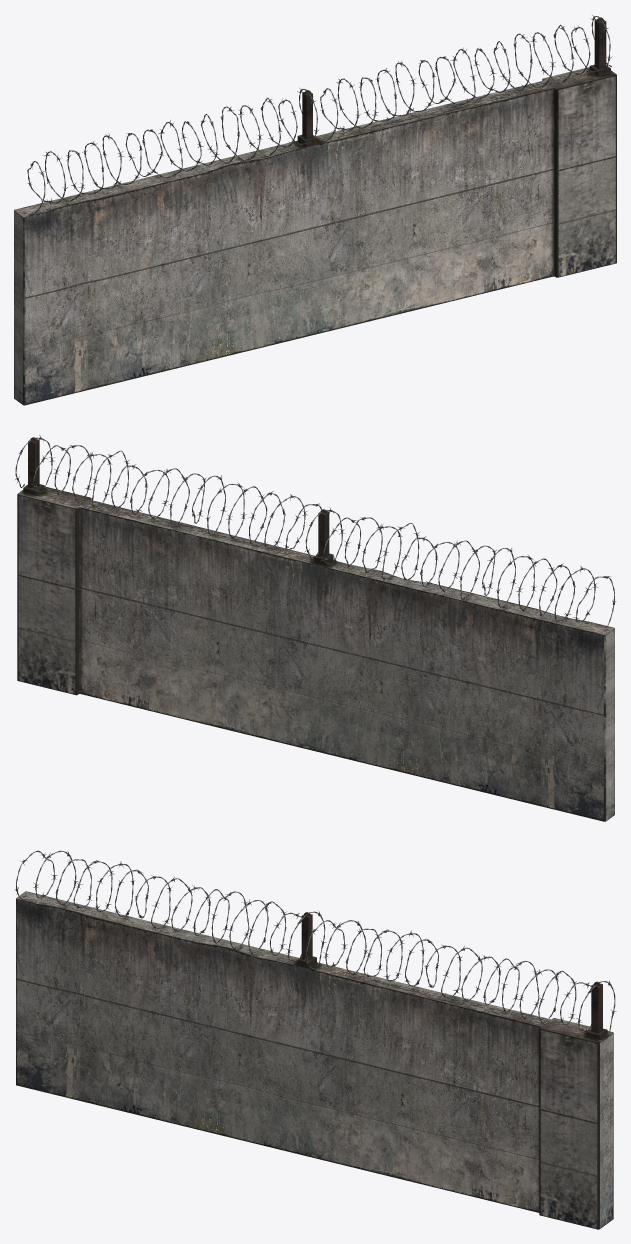
The model's file is concrete_wall_protection.glb.
The picture shows the model from 3 angles, top to bottom: view 1: azimuth 30°, elevation 25°; view 2: azimuth 150°, elevation 25°; view 3: azimuth 330°, elevation 25°; orthographic projection.
Visible parts, largest first — view 1: 01_01_0, 01_02_0 (×4); view 2: 01_01_0, 01_02_0 (×4); view 3: 01_01_0, 01_02_0 (×4).
Boxes of the visible parts, bbox=[...] form: 01_01_0: bbox=[14, 67, 616, 405]; 01_02_0 (×4): bbox=[24, 15, 612, 214]; 01_01_0: bbox=[17, 486, 614, 821]; 01_02_0 (×4): bbox=[15, 435, 616, 629]; 01_01_0: bbox=[16, 891, 613, 1229]; 01_02_0 (×4): bbox=[14, 851, 615, 1039].
Bounding box in the file's own units: 13.18 × 5.21 × 1.26.
Materials: 2 (2 with a texture image).
